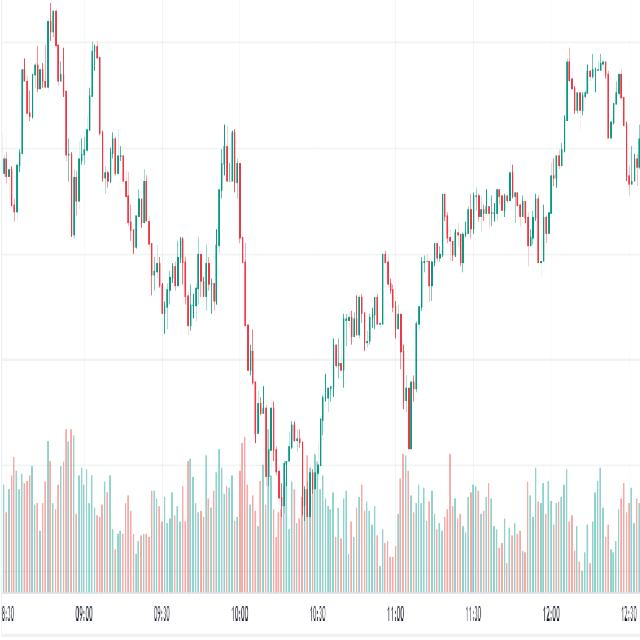Double-Bottom: (266, 382, 325, 528)
